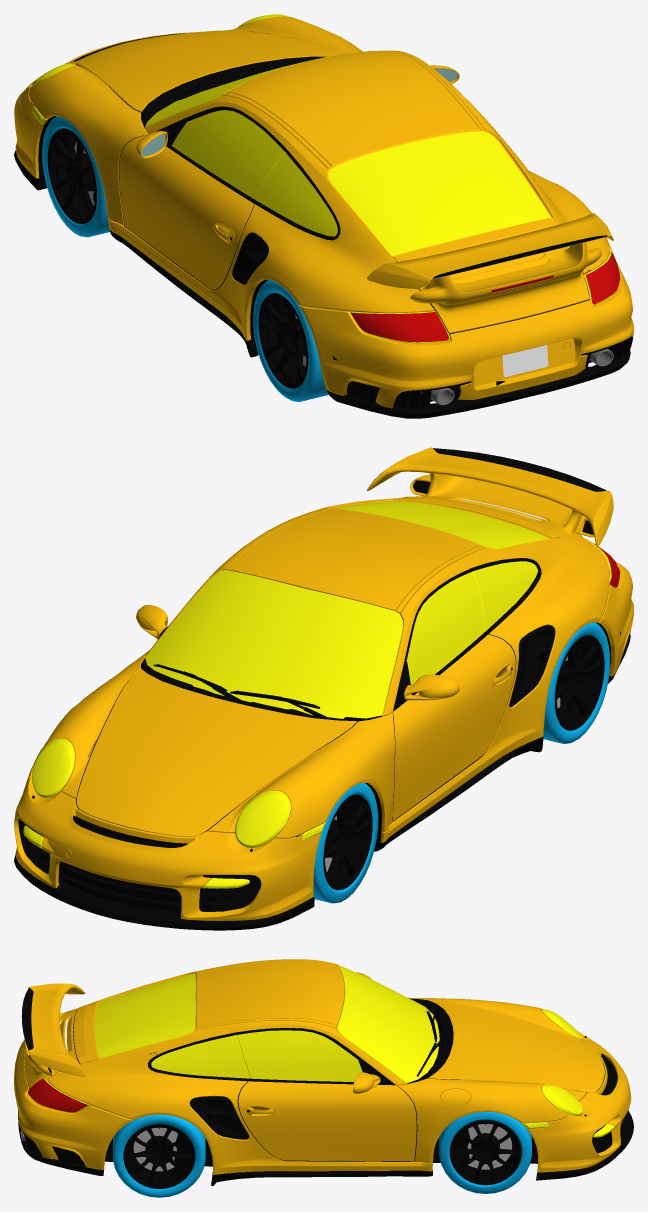
The picture shows the model from 3 angles, top to bottom: view 1: azimuth 30°, elevation 25°; view 2: azimuth 150°, elevation 25°; view 3: azimuth 270°, elevation 25°; orthographic projection. The views are drawn at different scales.
Parts seen in each view (by area): view 1: gt2:Mesh, rim:Mesh, wheel:Mesh; view 2: gt2:Mesh, rim:Mesh, wheel:Mesh; view 3: gt2:Mesh, Mesh1_phongE4_0, Mesh_wheel1_0, Mesh1_phongE5_0, Mesh2_lambert1_0.
Part boxes in pixels (left/top/right/bottom): gt2:Mesh: left=14, top=14, right=633, bottom=418; rim:Mesh: left=47, top=128, right=308, bottom=388; wheel:Mesh: left=42, top=116, right=328, bottom=401; gt2:Mesh: left=14, top=447, right=633, bottom=930; rim:Mesh: left=323, top=635, right=604, bottom=890; wheel:Mesh: left=313, top=622, right=609, bottom=903; gt2:Mesh: left=14, top=959, right=633, bottom=1185; Mesh1_phongE4_0: left=123, top=1120, right=521, bottom=1188; Mesh_wheel1_0: left=113, top=1112, right=531, bottom=1197; Mesh1_phongE5_0: left=133, top=1124, right=512, bottom=1171; Mesh2_lambert1_0: left=174, top=1129, right=469, bottom=1171.
Bounding box in the file's own units: 1.96 × 1.27 × 4.47.
